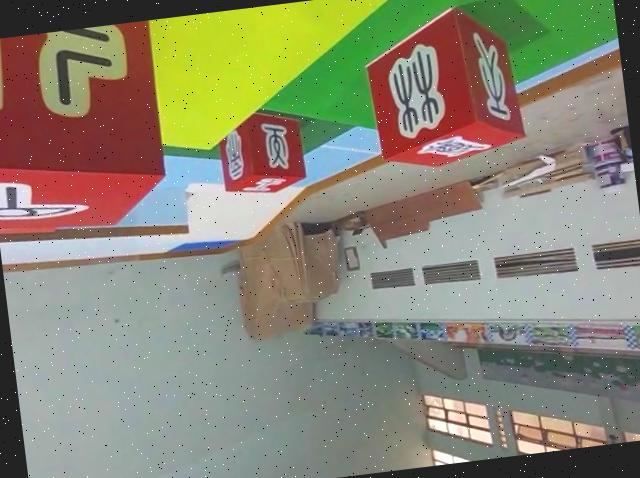R2 Fake: (355, 0, 529, 177), (212, 102, 310, 201)
R2 Real: (0, 19, 176, 243)
